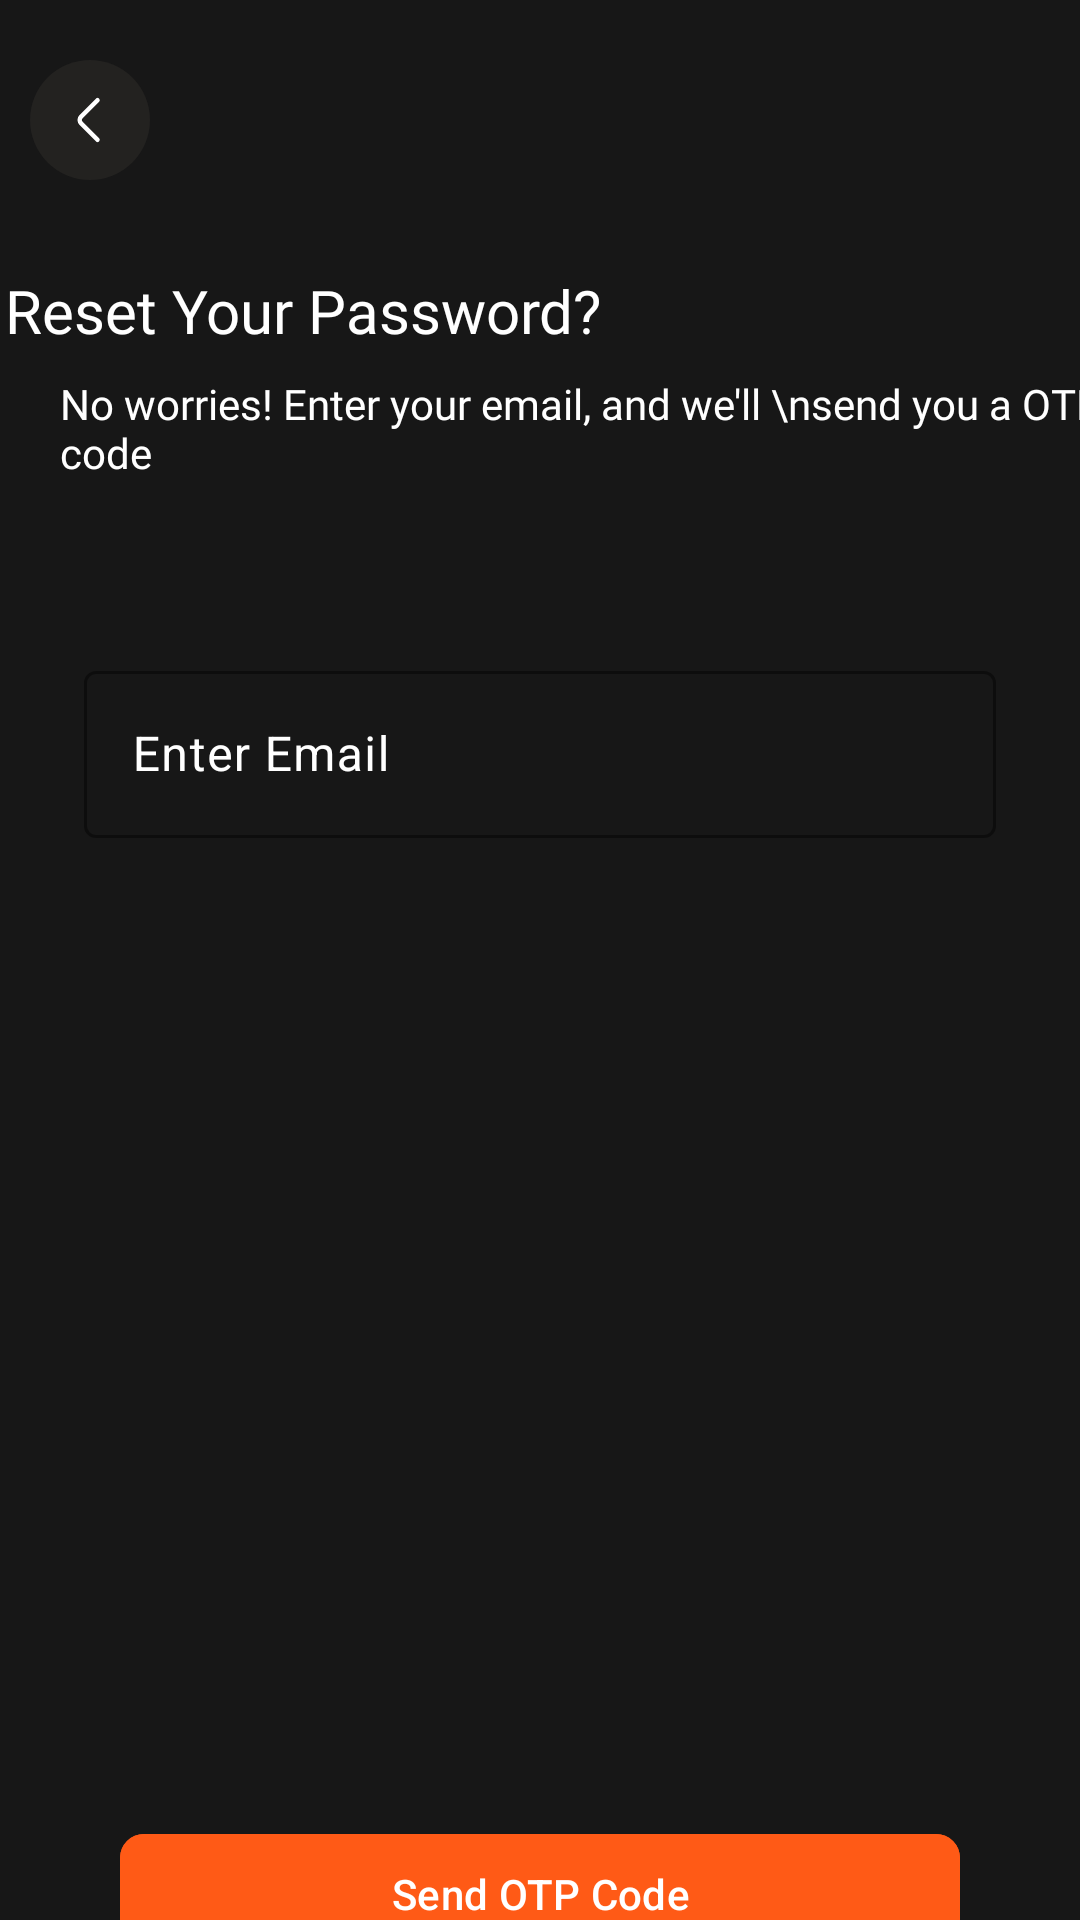

Where icons sit on this 1080px×1920px app screen, as (x1, y1, x2, y2):
back: (30, 60, 150, 180)
